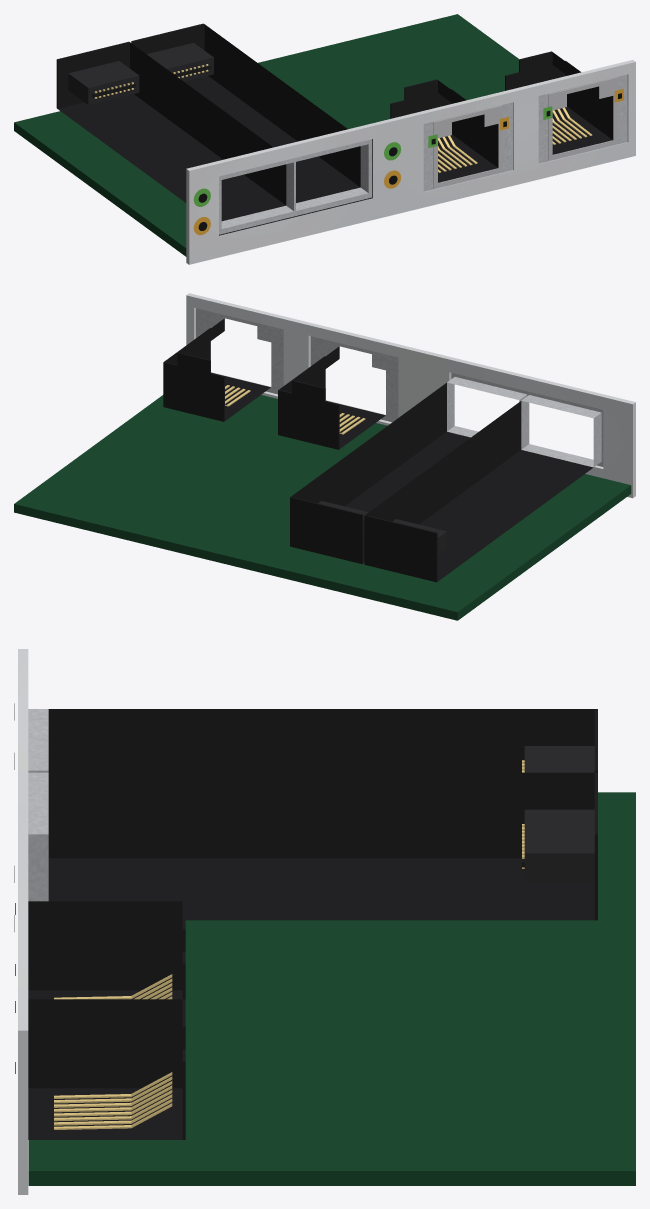
The model's file is 540-BBUR.glb.
The picture shows the model from 3 angles, top to bottom: view 1: azimuth 30°, elevation 25°; view 2: azimuth 150°, elevation 25°; view 3: azimuth 270°, elevation 25°; orthographic projection. The views are drawn at different scales.
Parts seen in each view (by area): view 1: Card; view 2: Card; view 3: Card.
Part boxes in pixels (x1,y1,x2,y2): Card: (14, 14, 635, 264); Card: (14, 293, 635, 620); Card: (18, 649, 635, 1194).
Bounding box in the file's own units: 0.0876 × 0.0176 × 0.0604.
Materials: 10 (2 with a texture image).
